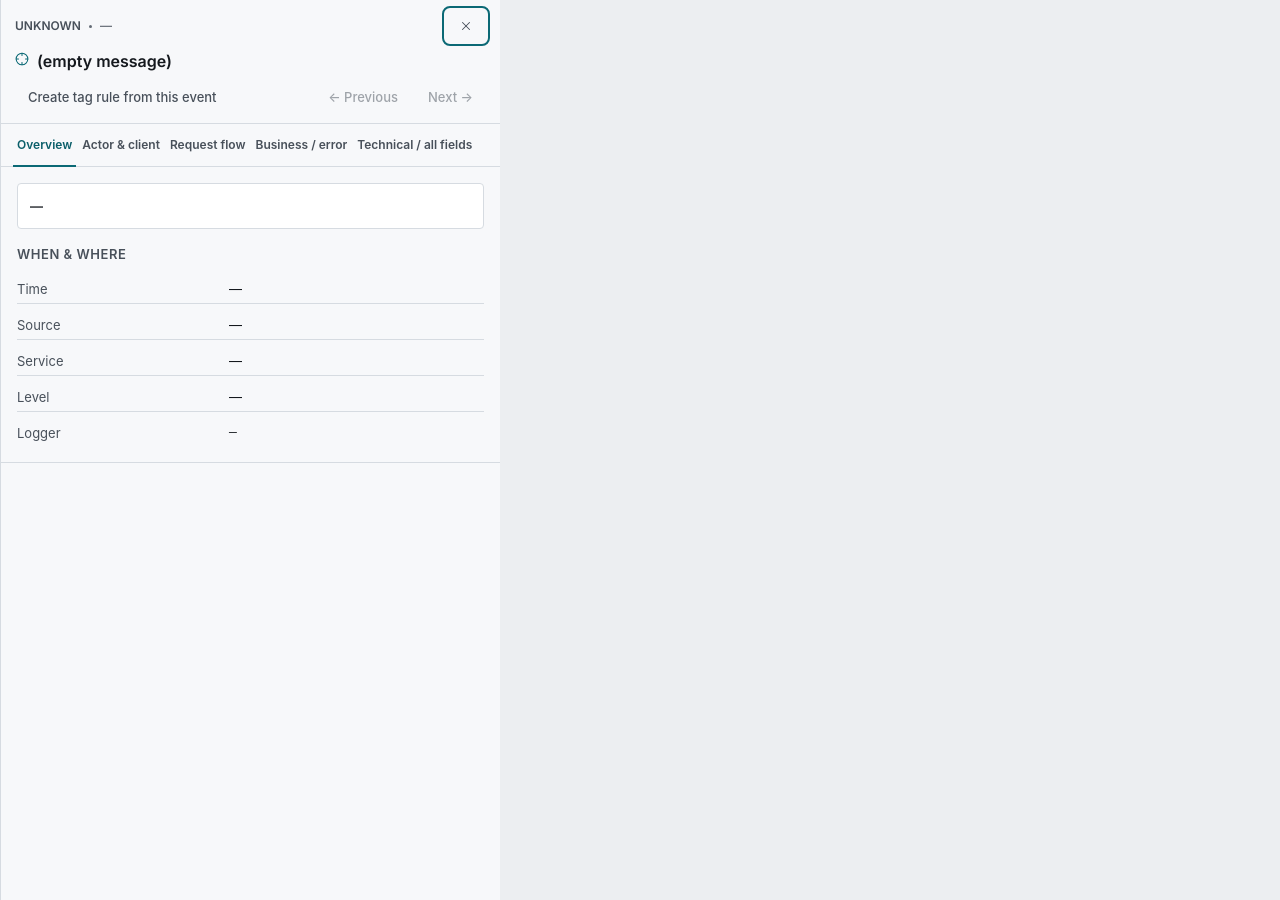
Test: EventInspector › primary tabs are structurally fixed - always present regardless of event content (§A1-§A5) › all five primary tabs are present for a minimal/sparse event, each with an honest empty state
Check: the tab "Overview" is shown, box [13, 124, 76, 167]
Check: the tab "Request flow" is shown, box [166, 124, 250, 167]
Click the tab "Actor & client" at (121, 146), box [78, 124, 164, 167]
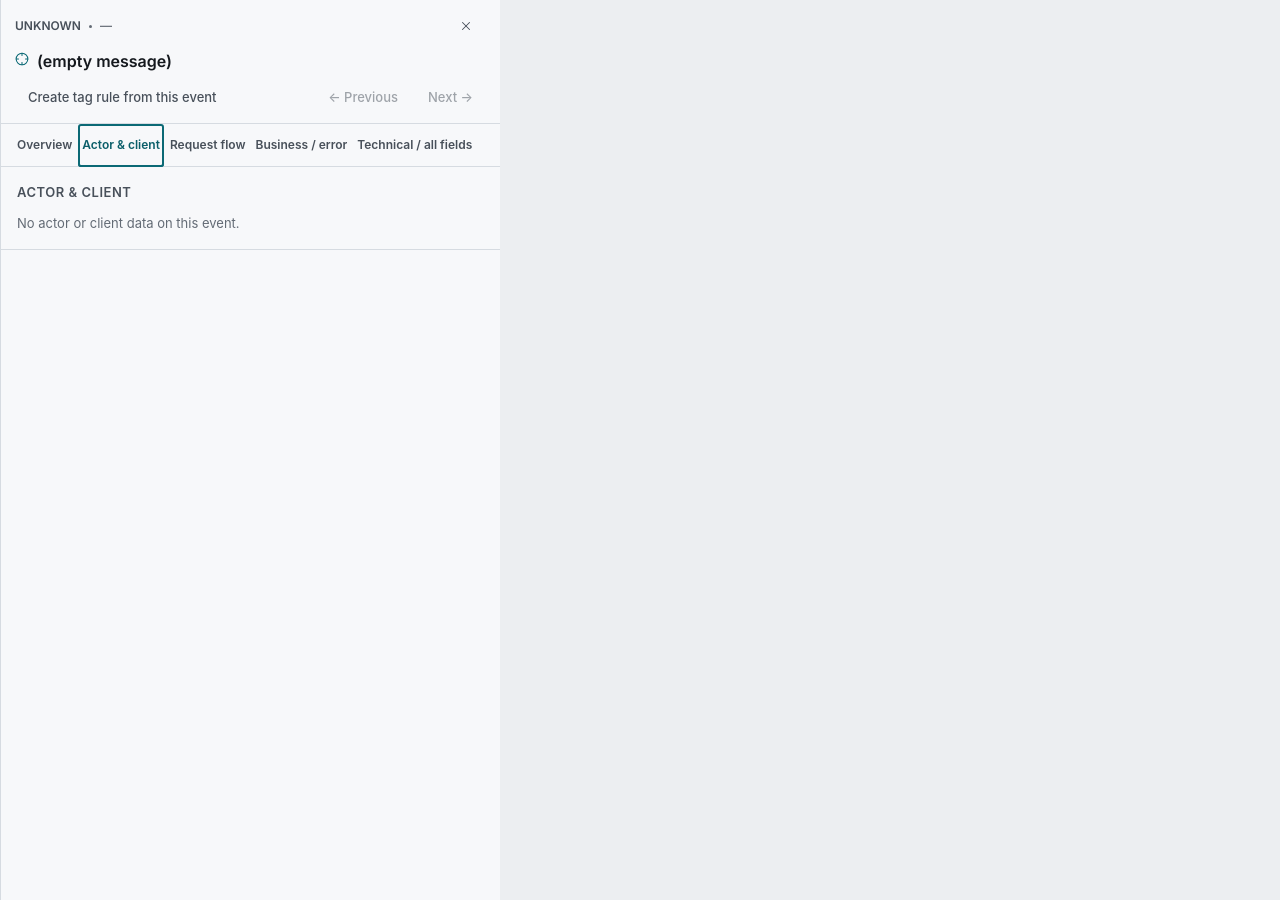
Check: the text "No actor or client data on this event." is shown, box [17, 215, 240, 231]
Click the tab "Request flow" at (208, 146), box [166, 124, 250, 167]
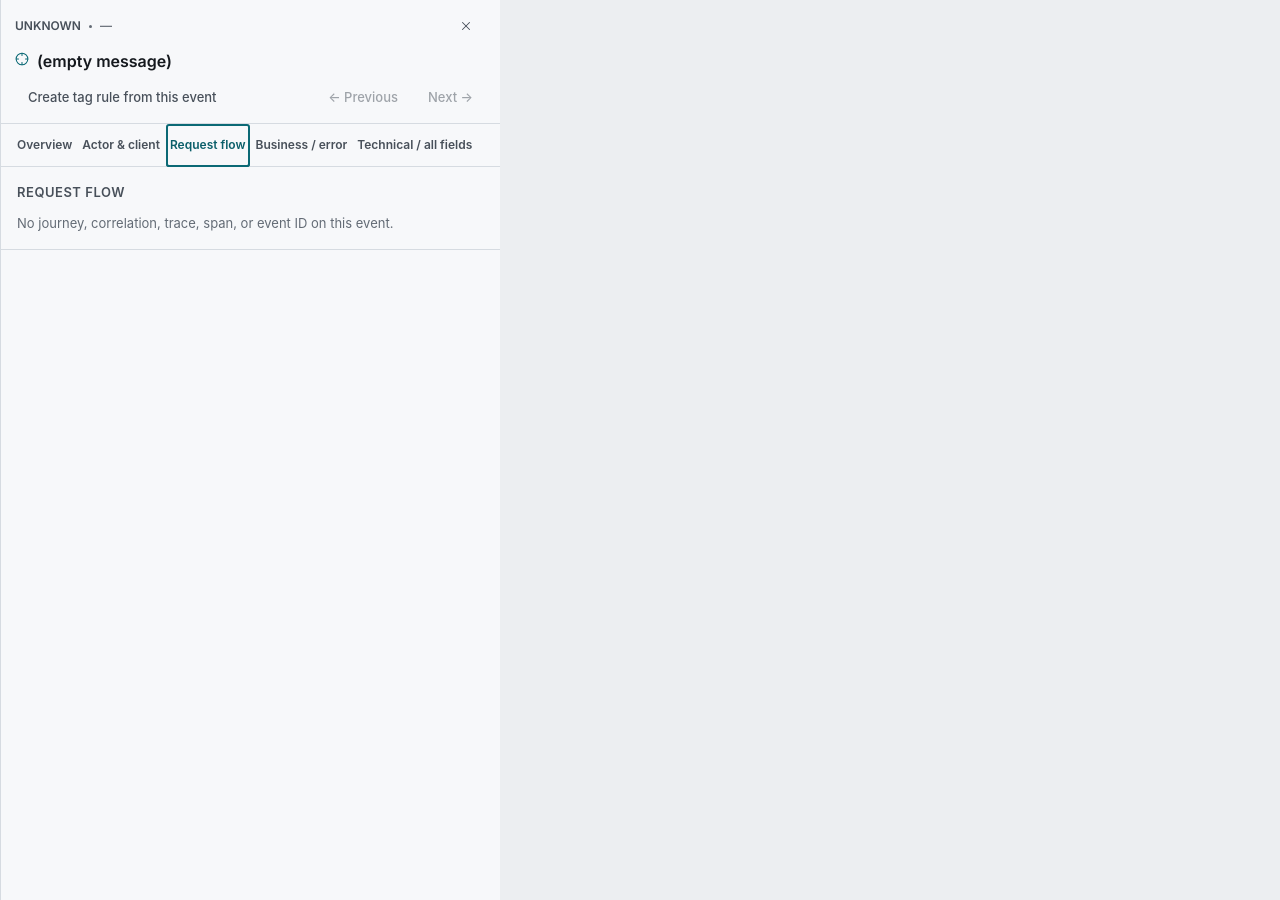
Check: the text "No journey, correlation, trace, span, or event ID on this event" is shown, box [17, 215, 393, 231]
Click the tab "Business / error" at (301, 146), box [252, 124, 351, 167]
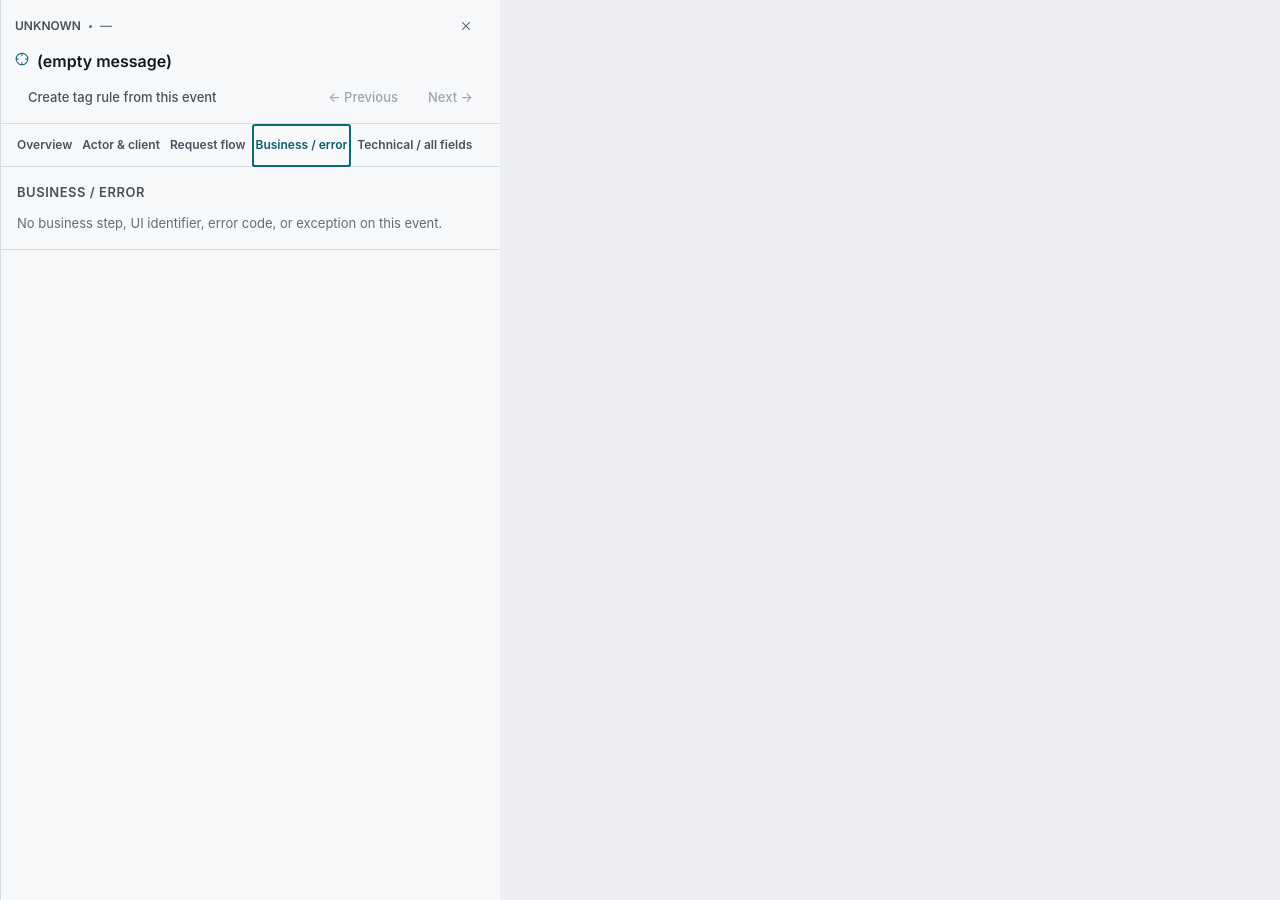
Check: the text "No business step, UI identifier, error code, or exception on this event" is shown, box [17, 215, 442, 231]
